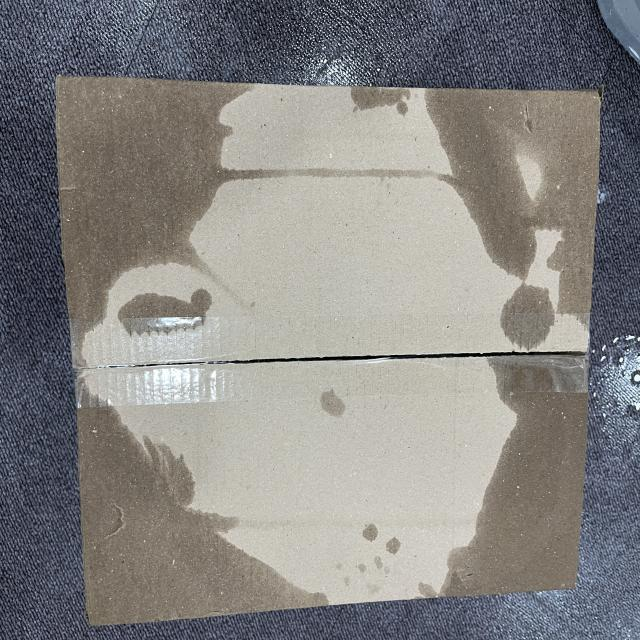wet: (71, 375, 329, 610), (55, 78, 252, 367), (428, 78, 596, 342), (422, 356, 579, 598)
